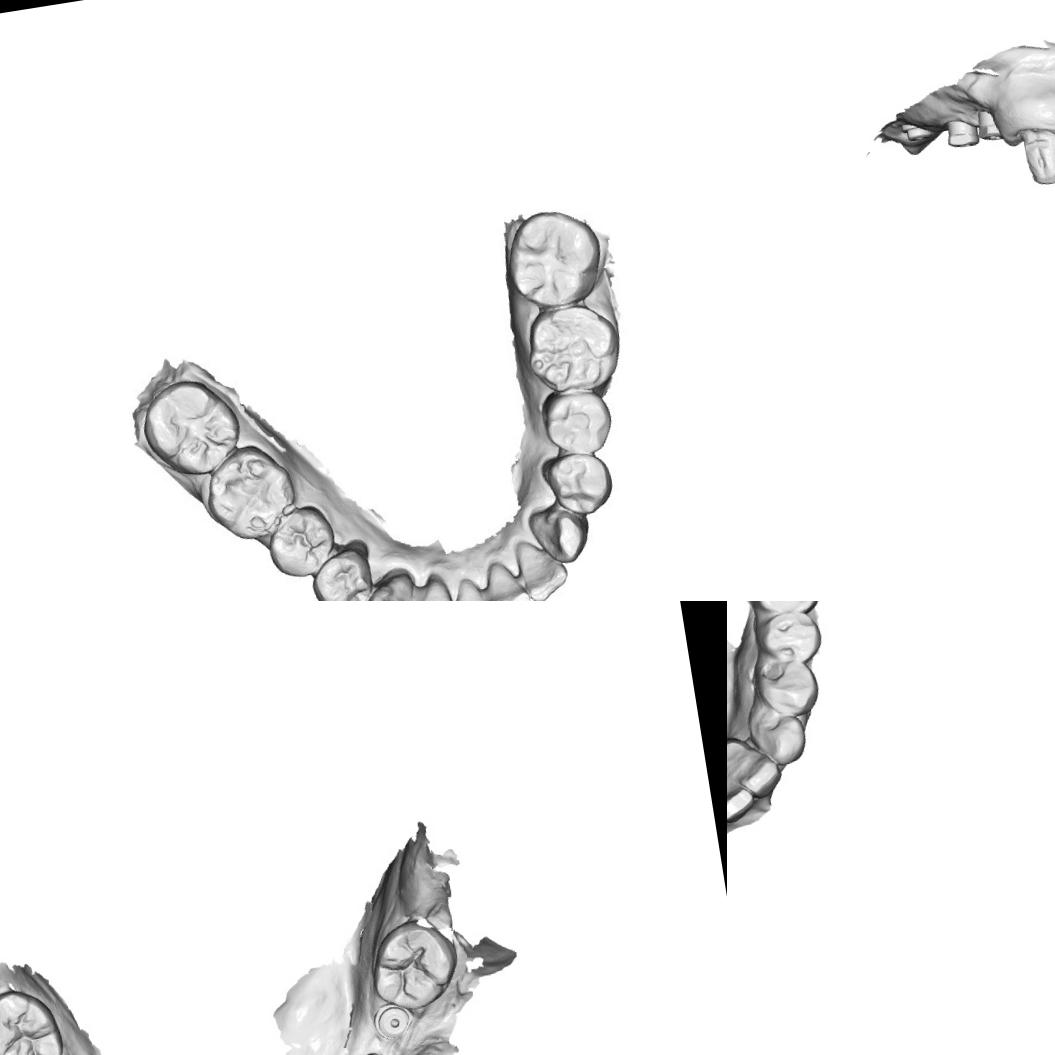canine: (522, 498, 600, 572), (750, 708, 810, 770), (359, 567, 427, 601)
implant: (370, 999, 414, 1046), (942, 114, 984, 153), (900, 114, 938, 148), (973, 113, 1006, 146), (355, 1045, 396, 1055)
incisor: (727, 737, 784, 800), (514, 534, 566, 601), (486, 558, 531, 601), (406, 569, 460, 601), (727, 779, 758, 828), (450, 574, 499, 601)
molar: (138, 372, 240, 480), (520, 297, 626, 398), (505, 208, 606, 308), (363, 912, 460, 1016), (200, 445, 300, 543), (0, 982, 68, 1055), (739, 601, 822, 621)
premolar: (537, 384, 615, 465), (536, 446, 618, 518), (261, 503, 334, 582), (750, 654, 827, 720), (752, 608, 824, 672), (305, 545, 380, 601)
